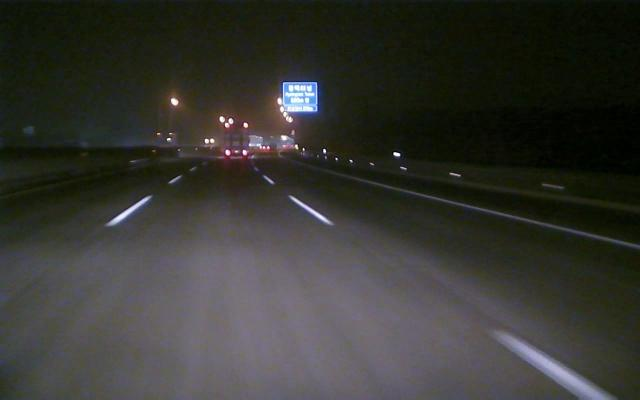lane: (284, 194, 611, 399), (378, 183, 640, 251), (105, 176, 181, 228)
